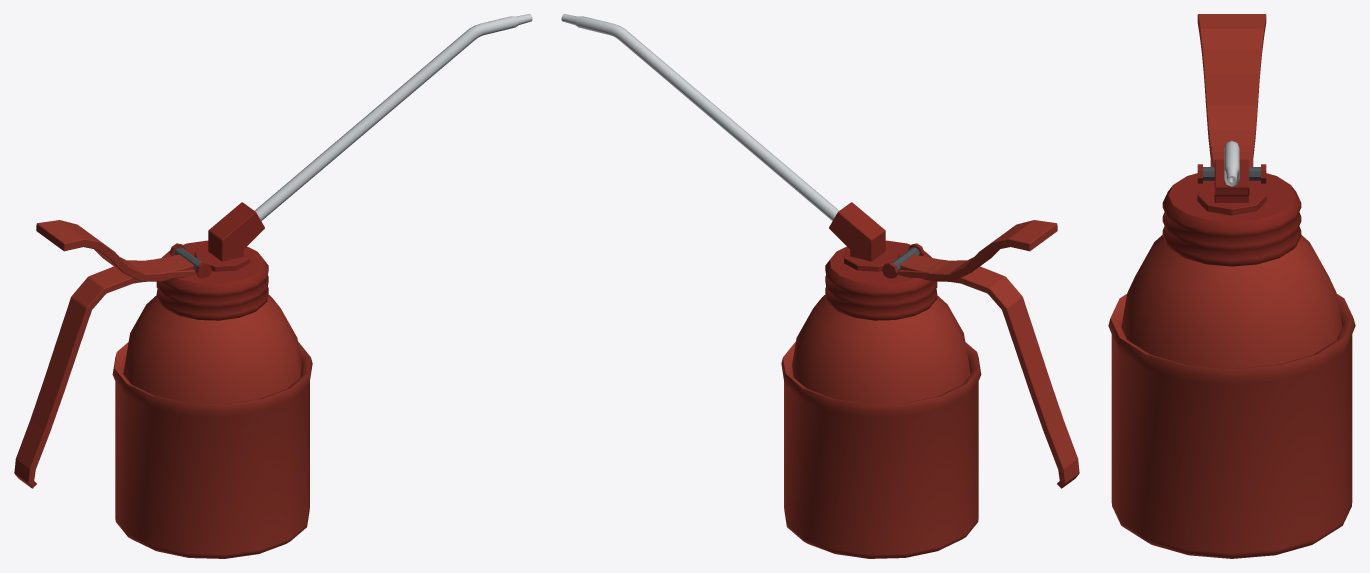
3 views of the same model, side by side, from view 1: azimuth 30°, elevation 25°; view 2: azimuth 150°, elevation 25°; view 3: azimuth 270°, elevation 25° (orthographic). The views are drawn at different scales.
Parts seen in each view (by area): view 1: Reservoir_with_inset_shoulder_and_rolled_rim, Fixed_descending_open_handgrip, Closed_ribbed_pump_collar, Rigid_bent_spout_with_open_tip, Upturned_thumb_pump_lever, Angled_spout_socket, Spout_mount_round_foot; view 2: Reservoir_with_inset_shoulder_and_rolled_rim, Fixed_descending_open_handgrip, Closed_ribbed_pump_collar, Rigid_bent_spout_with_open_tip, Upturned_thumb_pump_lever, Angled_spout_socket, Spout_mount_round_foot; view 3: Reservoir_with_inset_shoulder_and_rolled_rim, Closed_ribbed_pump_collar, Upturned_thumb_pump_lever, Angled_spout_socket, Spout_mount_round_foot, Rigid_bent_spout_with_open_tip, Lever_pivot_cross_axle.
Part boxes in pixels (x1,y1,x2,y2): Reservoir_with_inset_shoulder_and_rolled_rim: (112, 294, 312, 558); Fixed_descending_open_handgrip: (14, 259, 196, 488); Closed_ribbed_pump_collar: (156, 240, 268, 320); Rigid_bent_spout_with_open_tip: (254, 14, 532, 220); Upturned_thumb_pump_lever: (36, 220, 193, 281); Angled_spout_socket: (208, 202, 264, 261); Spout_mount_round_foot: (194, 245, 249, 271); Reservoir_with_inset_shoulder_and_rolled_rim: (781, 294, 981, 558); Fixed_descending_open_handgrip: (897, 259, 1079, 488); Closed_ribbed_pump_collar: (825, 240, 937, 320); Rigid_bent_spout_with_open_tip: (561, 14, 839, 220); Upturned_thumb_pump_lever: (900, 220, 1057, 281); Angled_spout_socket: (829, 202, 885, 261); Spout_mount_round_foot: (844, 245, 899, 271); Reservoir_with_inset_shoulder_and_rolled_rim: (1108, 235, 1355, 558); Closed_ribbed_pump_collar: (1162, 173, 1301, 266); Upturned_thumb_pump_lever: (1197, 14, 1266, 166); Angled_spout_socket: (1214, 159, 1249, 202); Spout_mount_round_foot: (1197, 183, 1266, 215); Rigid_bent_spout_with_open_tip: (1224, 141, 1239, 186); Lever_pivot_cross_axle: (1203, 167, 1260, 180).
Bounding box in the file's own units: 0.2099 × 0.1696 × 0.072.
